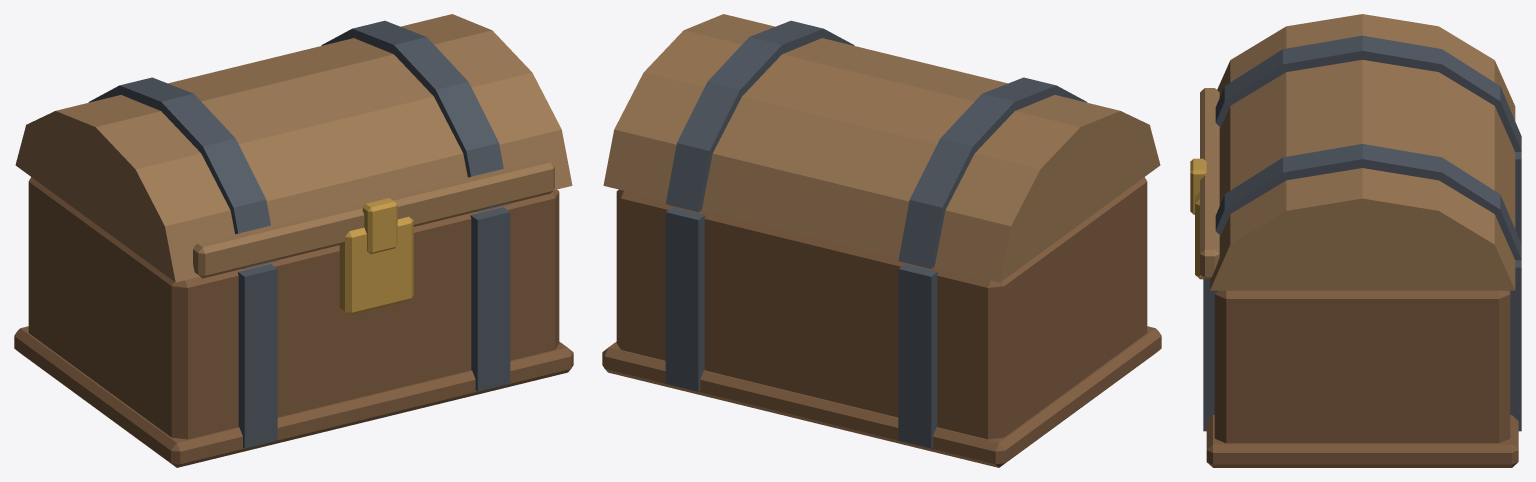
Rendered from Chest_Small.fbx.
3 views of the same model, side by side, from view 1: azimuth 30°, elevation 25°; view 2: azimuth 150°, elevation 25°; view 3: azimuth 270°, elevation 25° (orthographic). The views are drawn at different scales.
Visible parts, largest first — view 1: Box, Lid, Straps, Fittings; view 2: Box, Lid, Straps; view 3: Lid, Box, Straps, Fittings.
Boxes of the visible parts, bbox=[...] form: Box: bbox=[14, 177, 573, 467]; Lid: bbox=[15, 14, 572, 282]; Straps: bbox=[88, 20, 510, 448]; Fittings: bbox=[339, 198, 413, 315]; Box: bbox=[602, 177, 1161, 467]; Lid: bbox=[603, 14, 1160, 282]; Straps: bbox=[665, 20, 1087, 448]; Lid: bbox=[1200, 14, 1515, 290]; Box: bbox=[1206, 290, 1518, 467]; Straps: bbox=[1203, 35, 1521, 431]; Fittings: bbox=[1190, 158, 1206, 279].
Bounding box in the file's own units: 2.7 × 1.88 × 2.02.
